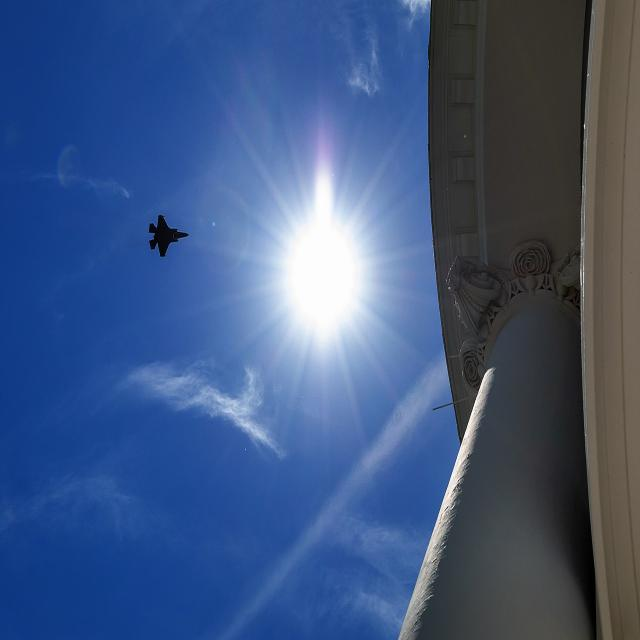MIL_Plane: (148, 214, 190, 257)
